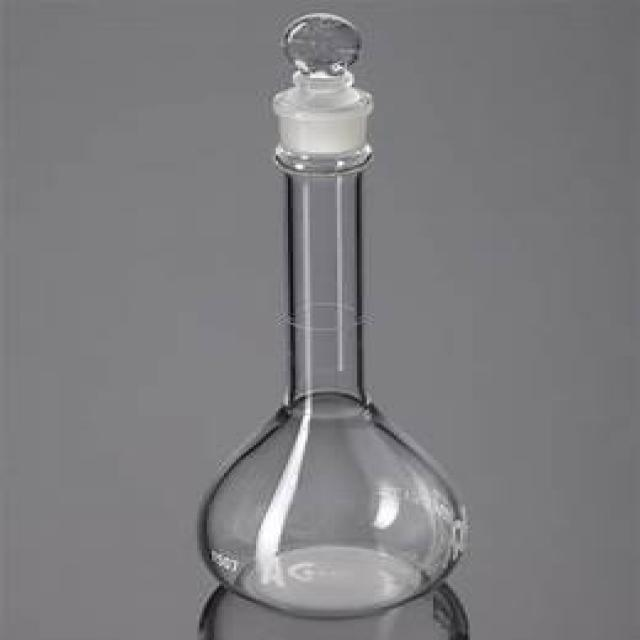Volumetric flask: (189, 14, 477, 618)
